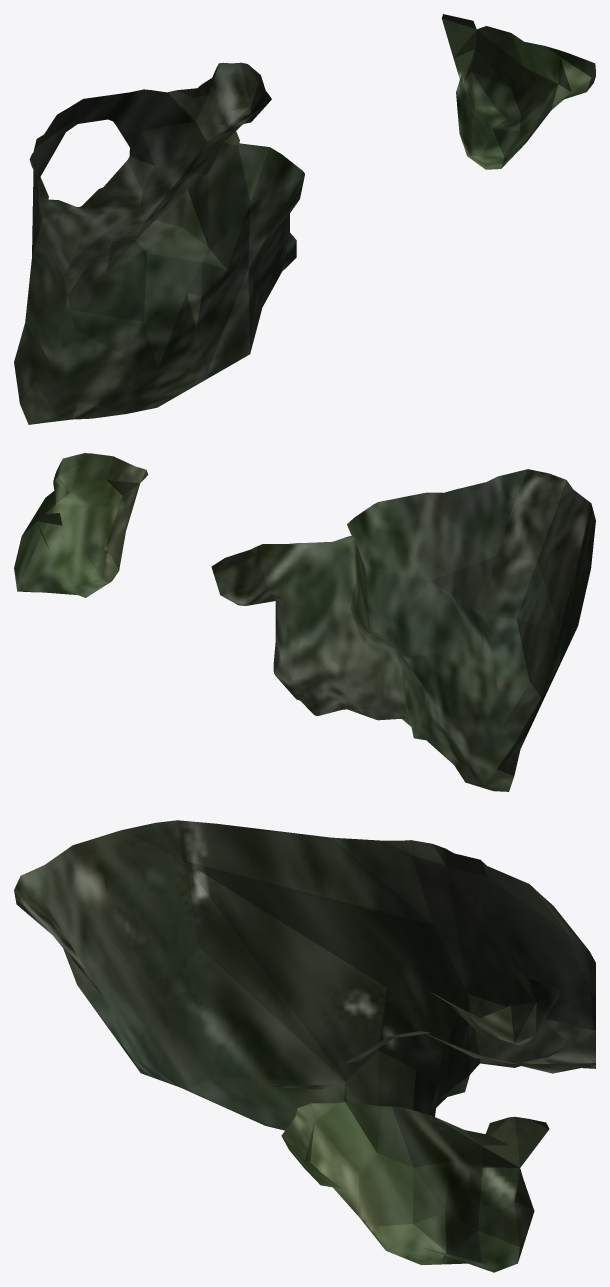
3 views of the same model, one above another, from view 1: azimuth 30°, elevation 25°; view 2: azimuth 150°, elevation 25°; view 3: azimuth 270°, elevation 25° (orthographic). The views are drawn at different scales.
Bounding box in the file's own units: 3.66 × 1.51 × 2.63.
1 material, 1 textured.
